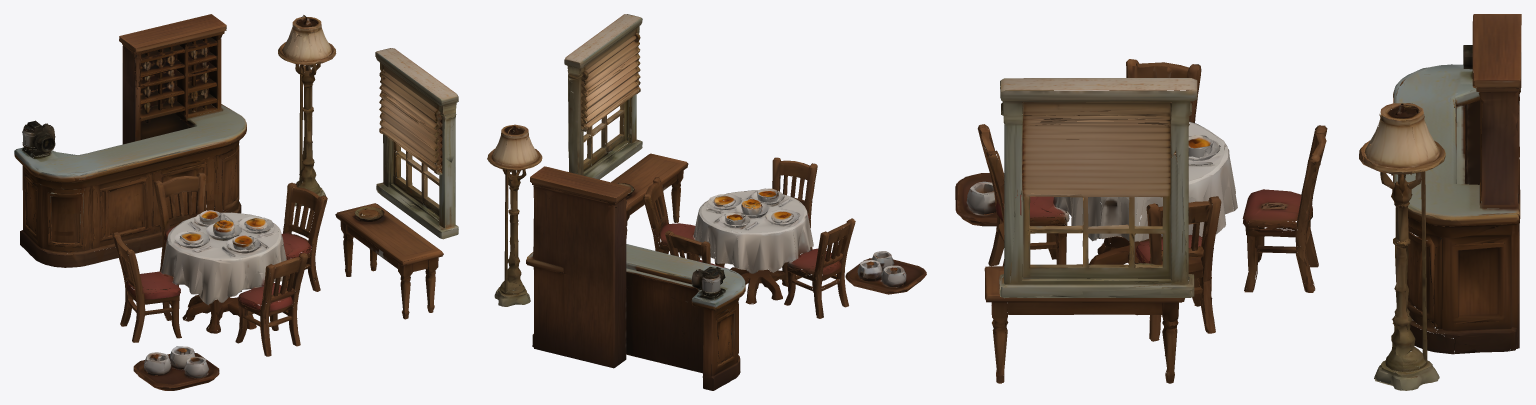
The model's file is env-hotel-lobby-furniture.glb.
3 views of the same model, side by side, from view 1: azimuth 30°, elevation 25°; view 2: azimuth 150°, elevation 25°; view 3: azimuth 270°, elevation 25° (orthographic). The views are drawn at different scales.
Parts seen in each view (by area): view 1: env-hotel-lobby-furniture; view 2: env-hotel-lobby-furniture; view 3: env-hotel-lobby-furniture.
Boxes of the visible parts, x1,y1,x2,y2 form: env-hotel-lobby-furniture: (14,14,458,390); env-hotel-lobby-furniture: (487,14,926,390); env-hotel-lobby-furniture: (955,14,1521,390).
Bounding box in the file's own units: 4.4 × 2.8 × 4.52.
Materials: 1 (1 with a texture image).
